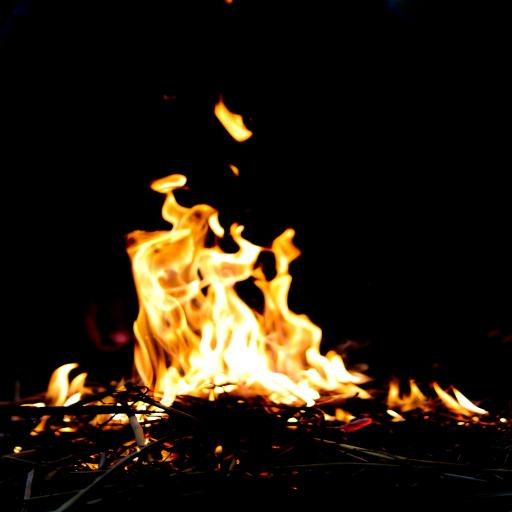campfire: (35, 95, 512, 488)
